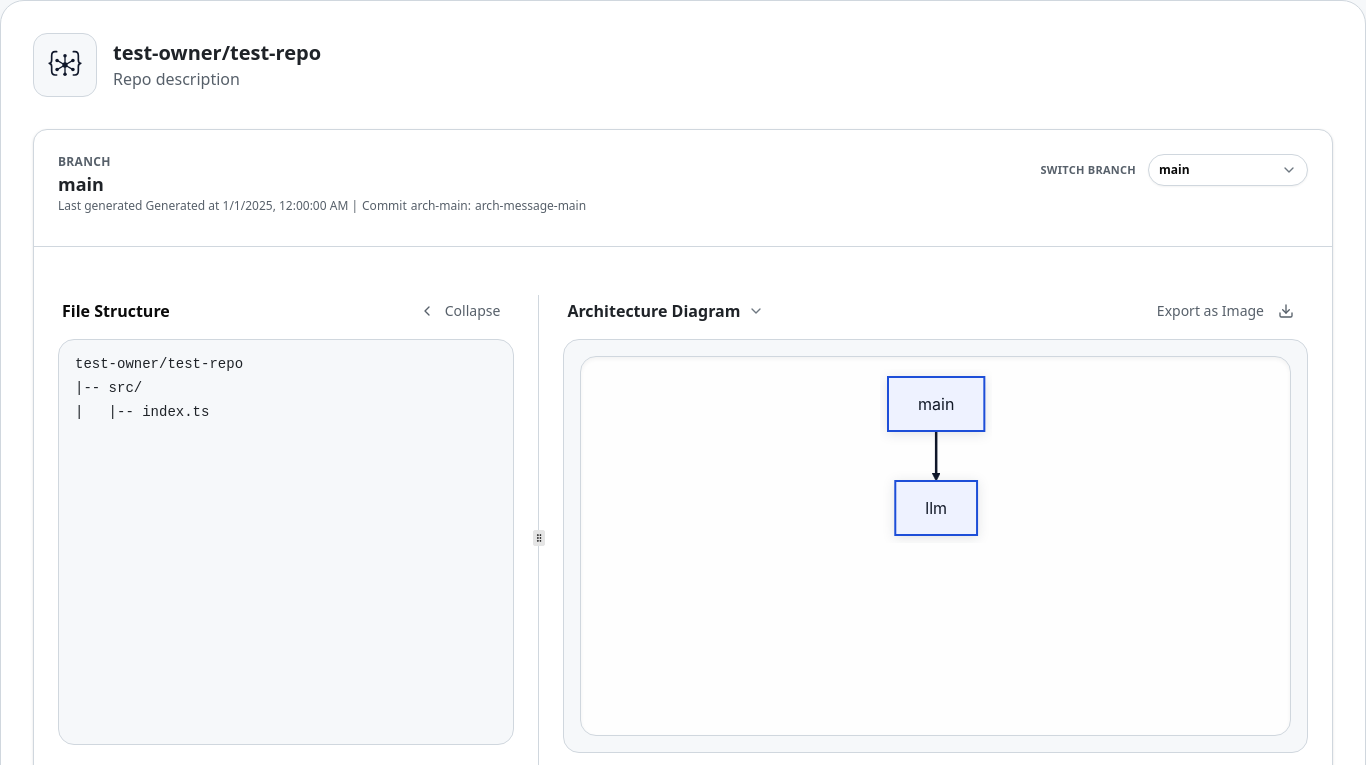
Test: Diagram › loads a new branch when switching via the branch dropdown
This screenshot has width=1366, height=765.
Expected: the text "arch-main:" is shown, [411,198,471,214]
Press the mouse on the text "Switch branch" at coordinates (1170, 170), box [1032,154,1308,186]
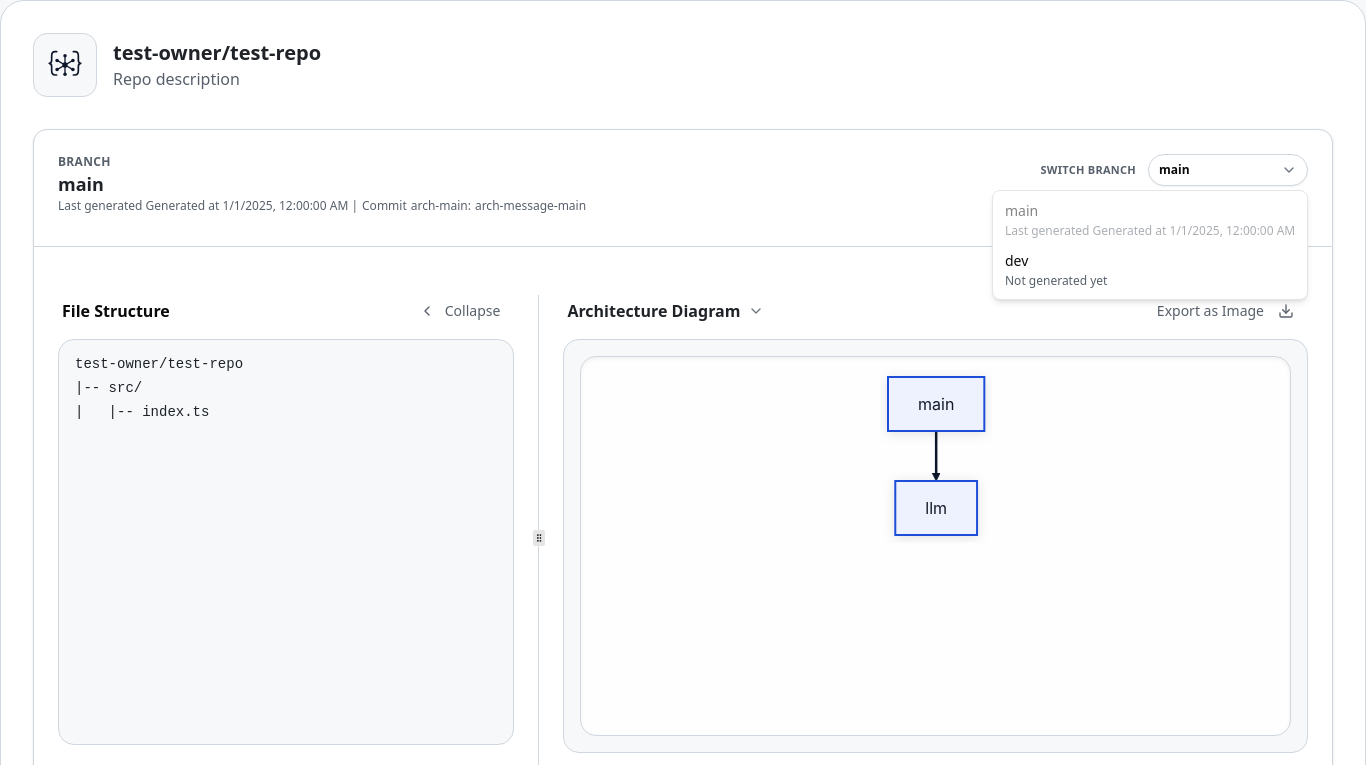
Click the text "dev" at coordinates (1017, 261), box [1005,251,1028,271]
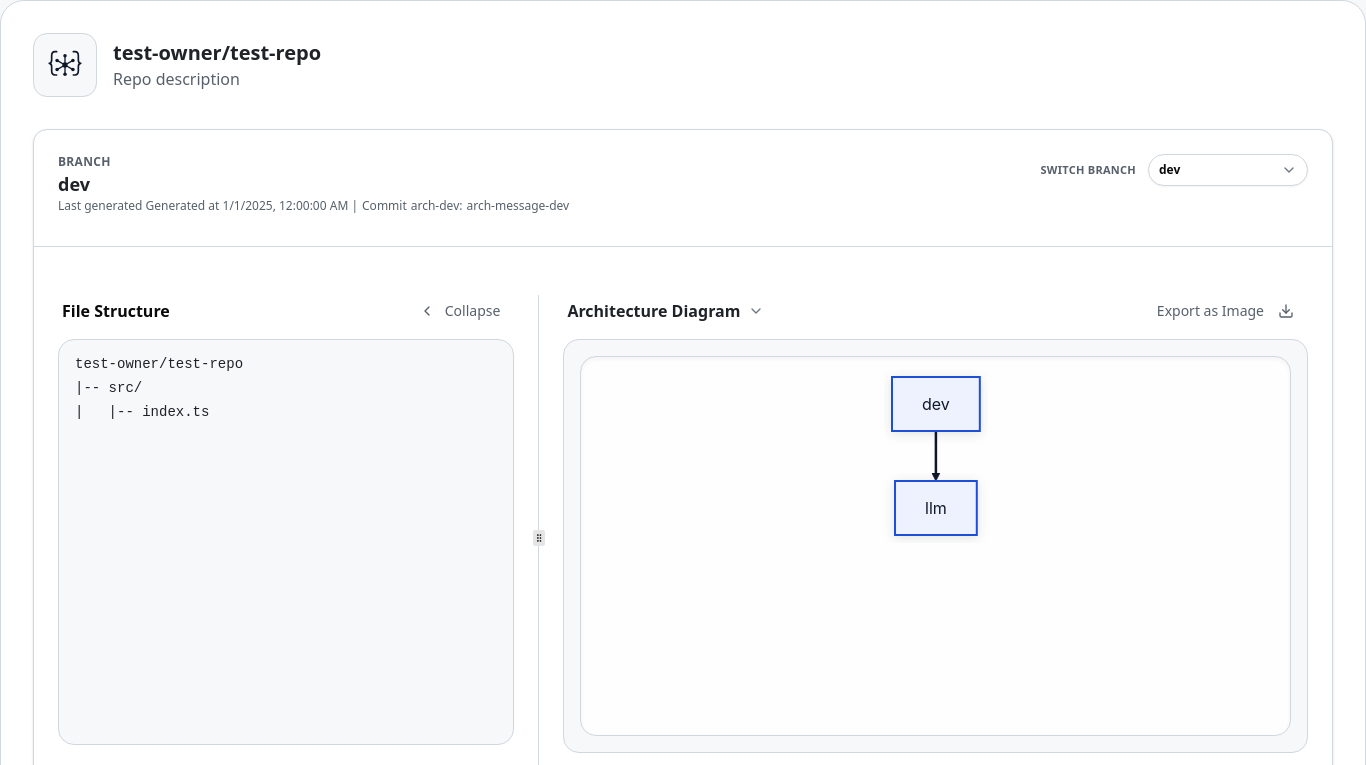
Now the text "arch-dev:" is shown, box [411,198,462,214]
Now the text "arch-message-dev" is shown, box [466,198,569,214]
